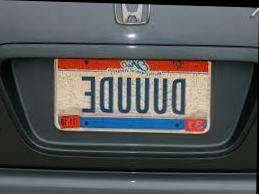License_Plate: (54, 58, 211, 136)
